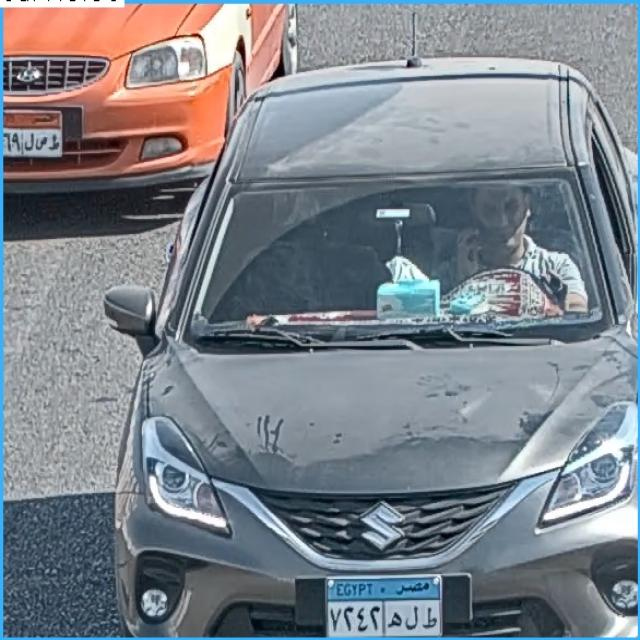windshield: (187, 180, 615, 338)
